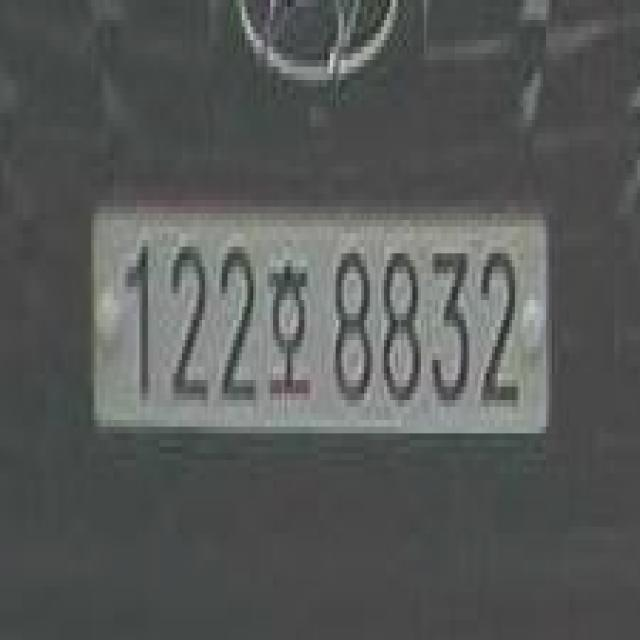illegal_plate: (92, 185, 551, 476)
